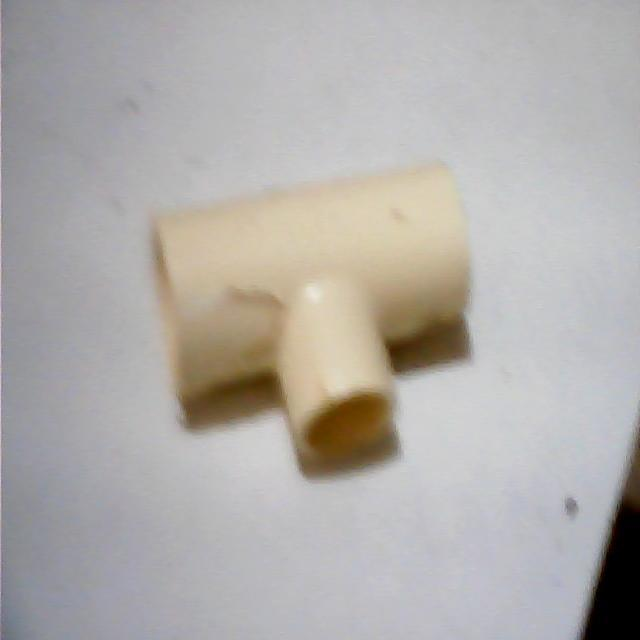Defective: (191, 276, 309, 422)
T Joint: (152, 166, 471, 465)
